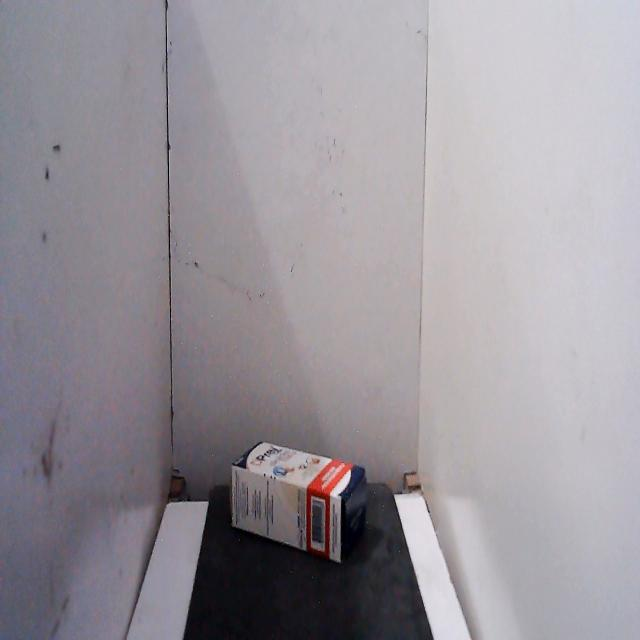papel: (225, 430, 373, 574)
